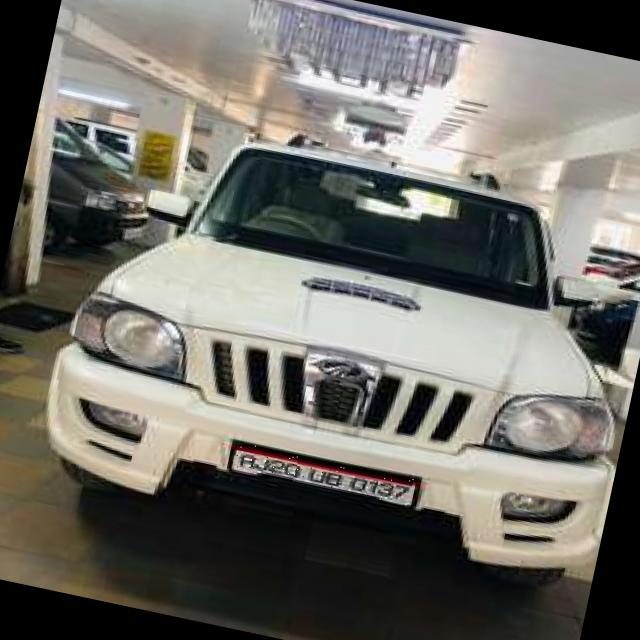Plate: (227, 442, 414, 508)
